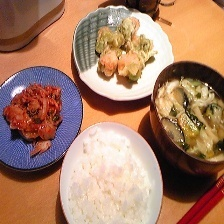rice: (68, 129, 154, 224)
